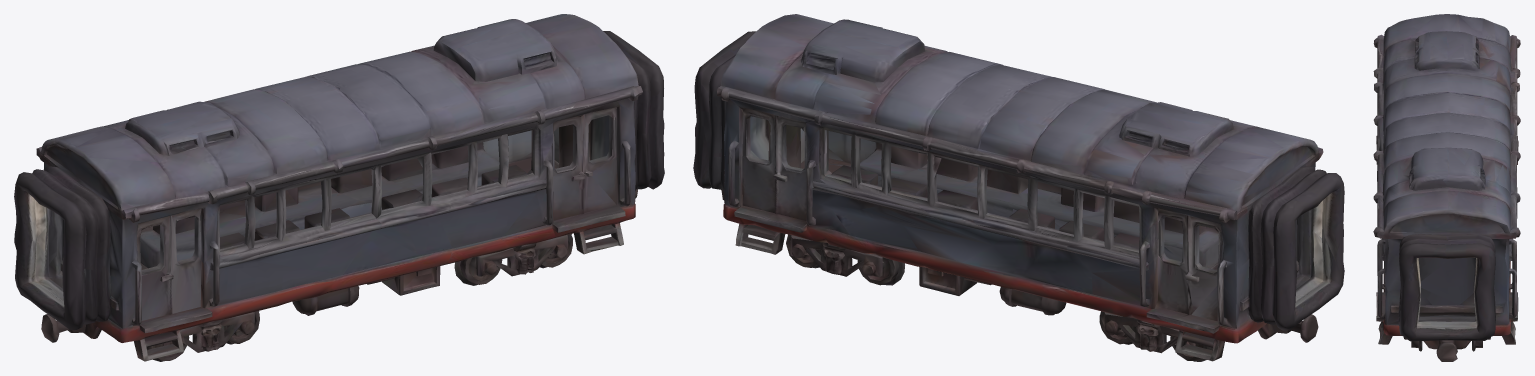
The model's file is train_coach_c_idle.glb.
3 renders of one model, left to right at view 1: azimuth 30°, elevation 25°; view 2: azimuth 150°, elevation 25°; view 3: azimuth 270°, elevation 25°, orthographic. The views are drawn at different scales.
Parts seen in each view (by area): view 1: tripo_node_01a39c04-a76e-4122-b785-89841c89ff77; view 2: tripo_node_01a39c04-a76e-4122-b785-89841c89ff77; view 3: tripo_node_01a39c04-a76e-4122-b785-89841c89ff77.
Boxes of the visible parts, bbox=[...] form: tripo_node_01a39c04-a76e-4122-b785-89841c89ff77: bbox=[14, 14, 664, 361]; tripo_node_01a39c04-a76e-4122-b785-89841c89ff77: bbox=[693, 14, 1344, 361]; tripo_node_01a39c04-a76e-4122-b785-89841c89ff77: bbox=[1373, 14, 1520, 361].
Size of the model in its own units: 8 by 2.87 by 2.18.
1 material, 1 textured.
